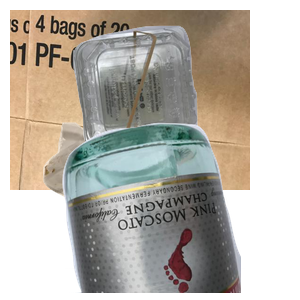cardboard: (10, 10, 250, 190)
glass: (60, 120, 300, 300)
plastic: (71, 23, 300, 169)
trash: (41, 120, 276, 300)
